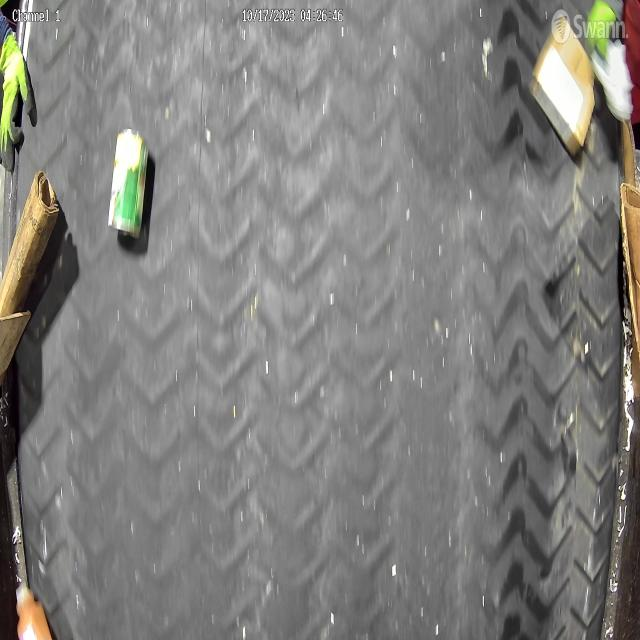can: (110, 128, 150, 242)
